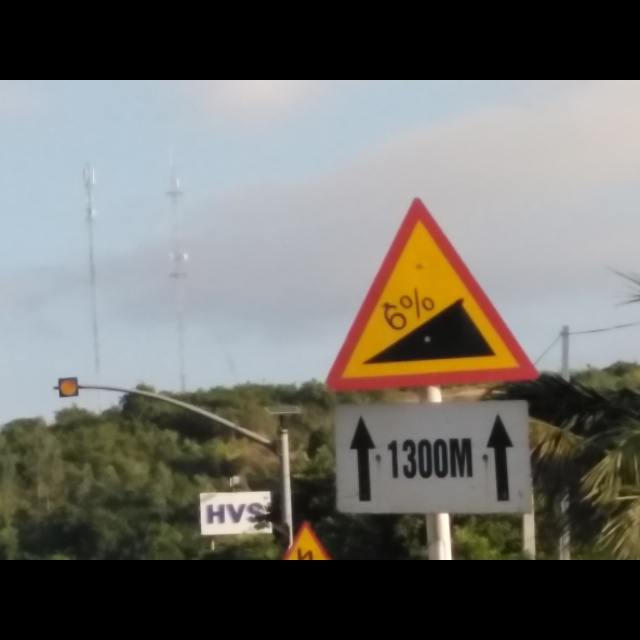Dốc lên nguy hiểm: (321, 192, 536, 395)
